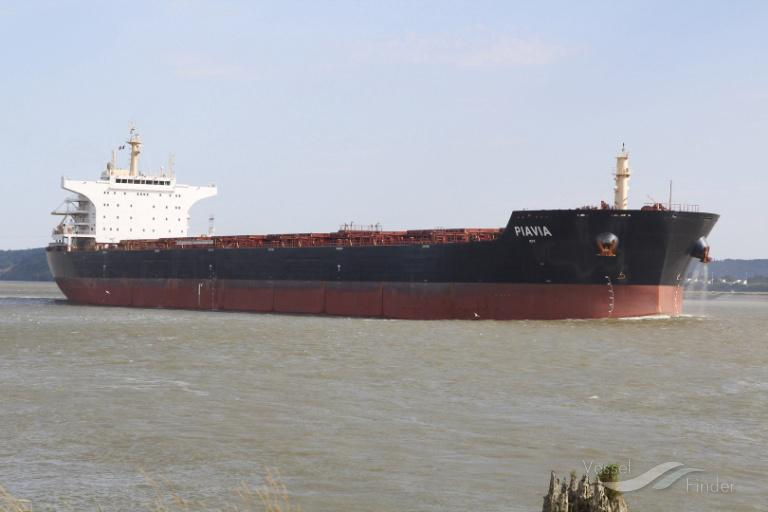OCR: (511, 218, 554, 248)
